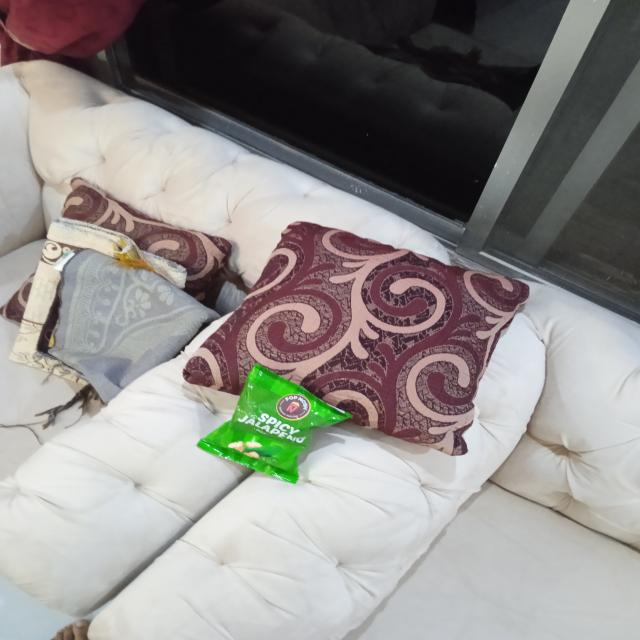Plastic: (193, 362, 351, 489)
